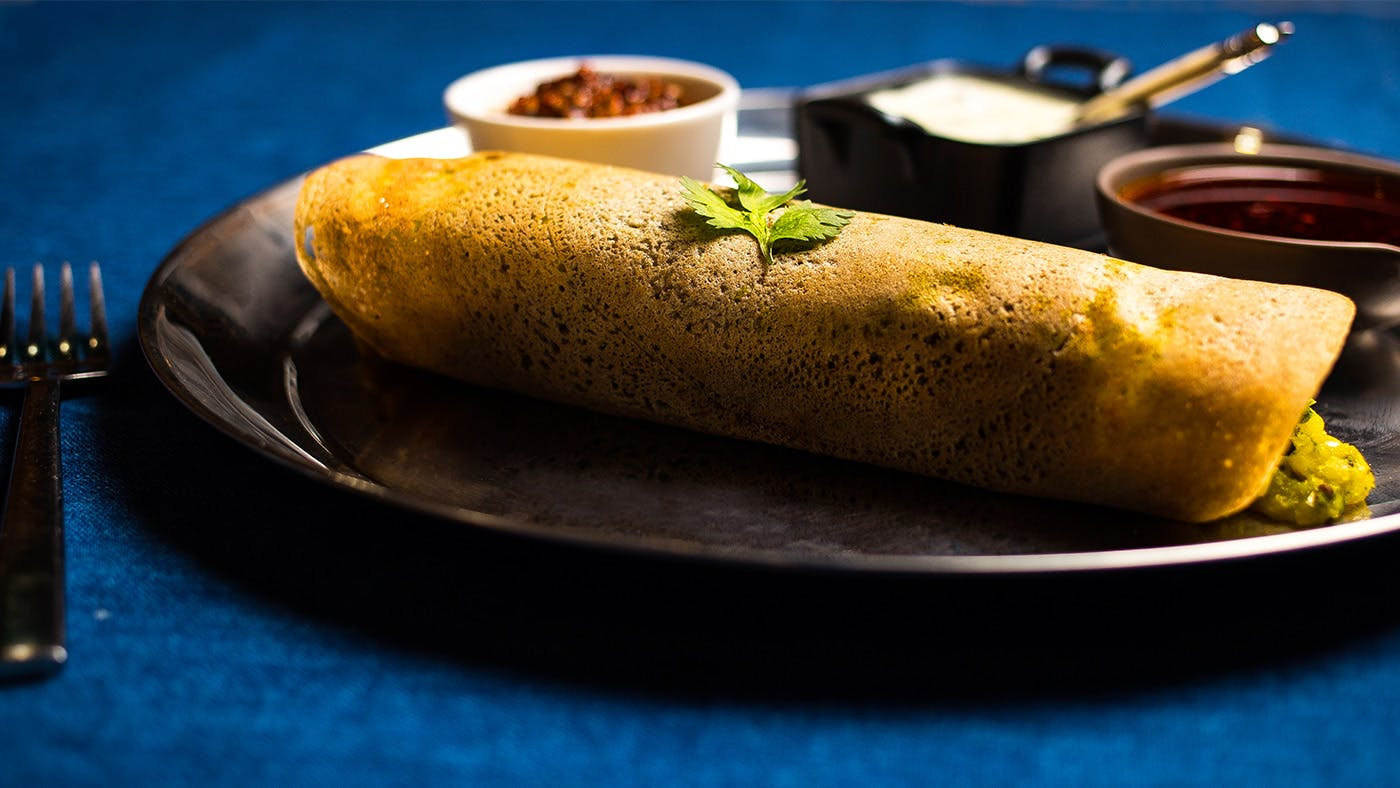dosa: (292, 132, 1374, 538)
